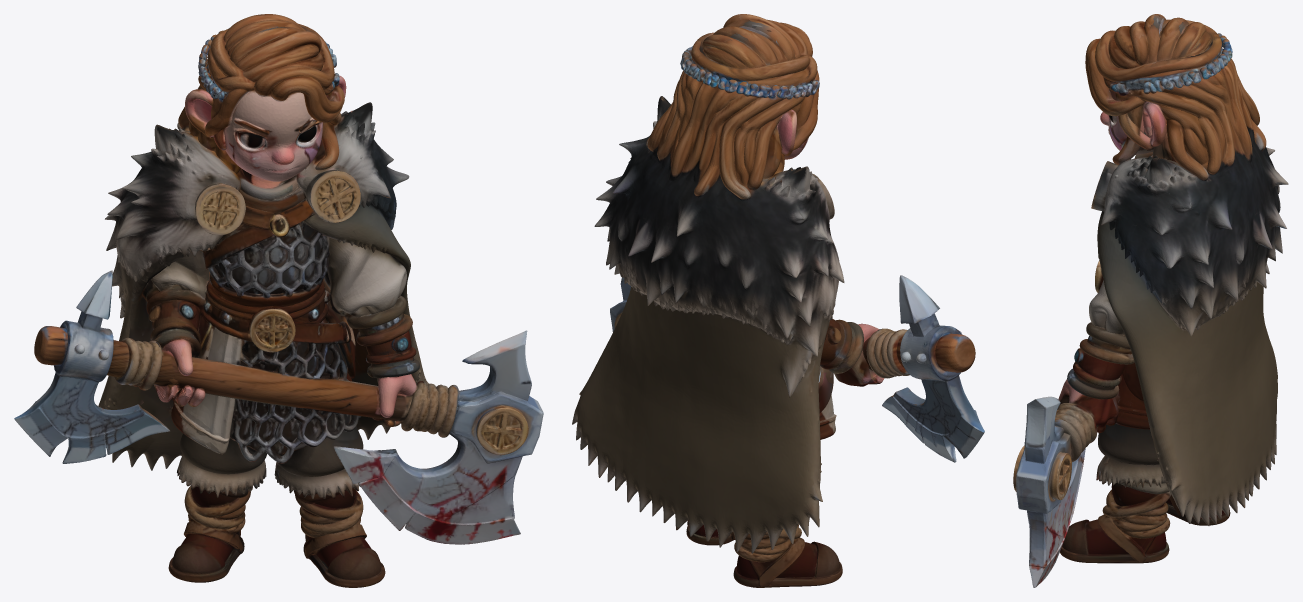
3 renders of one model, left to right at view 1: azimuth 30°, elevation 25°; view 2: azimuth 150°, elevation 25°; view 3: azimuth 270°, elevation 25°, orthographic. The views are drawn at different scales.
Parts seen in each view (by area): view 1: texture_pbr_v128; view 2: texture_pbr_v128; view 3: texture_pbr_v128.
Part boxes in pixels (x1,y1,x2,y2): texture_pbr_v128: [14, 14, 543, 587]; texture_pbr_v128: [572, 14, 984, 587]; texture_pbr_v128: [1013, 14, 1288, 587].
Size of the model in its own units: 0.8389 by 0.9475 by 0.464.
1 material, 1 textured.
